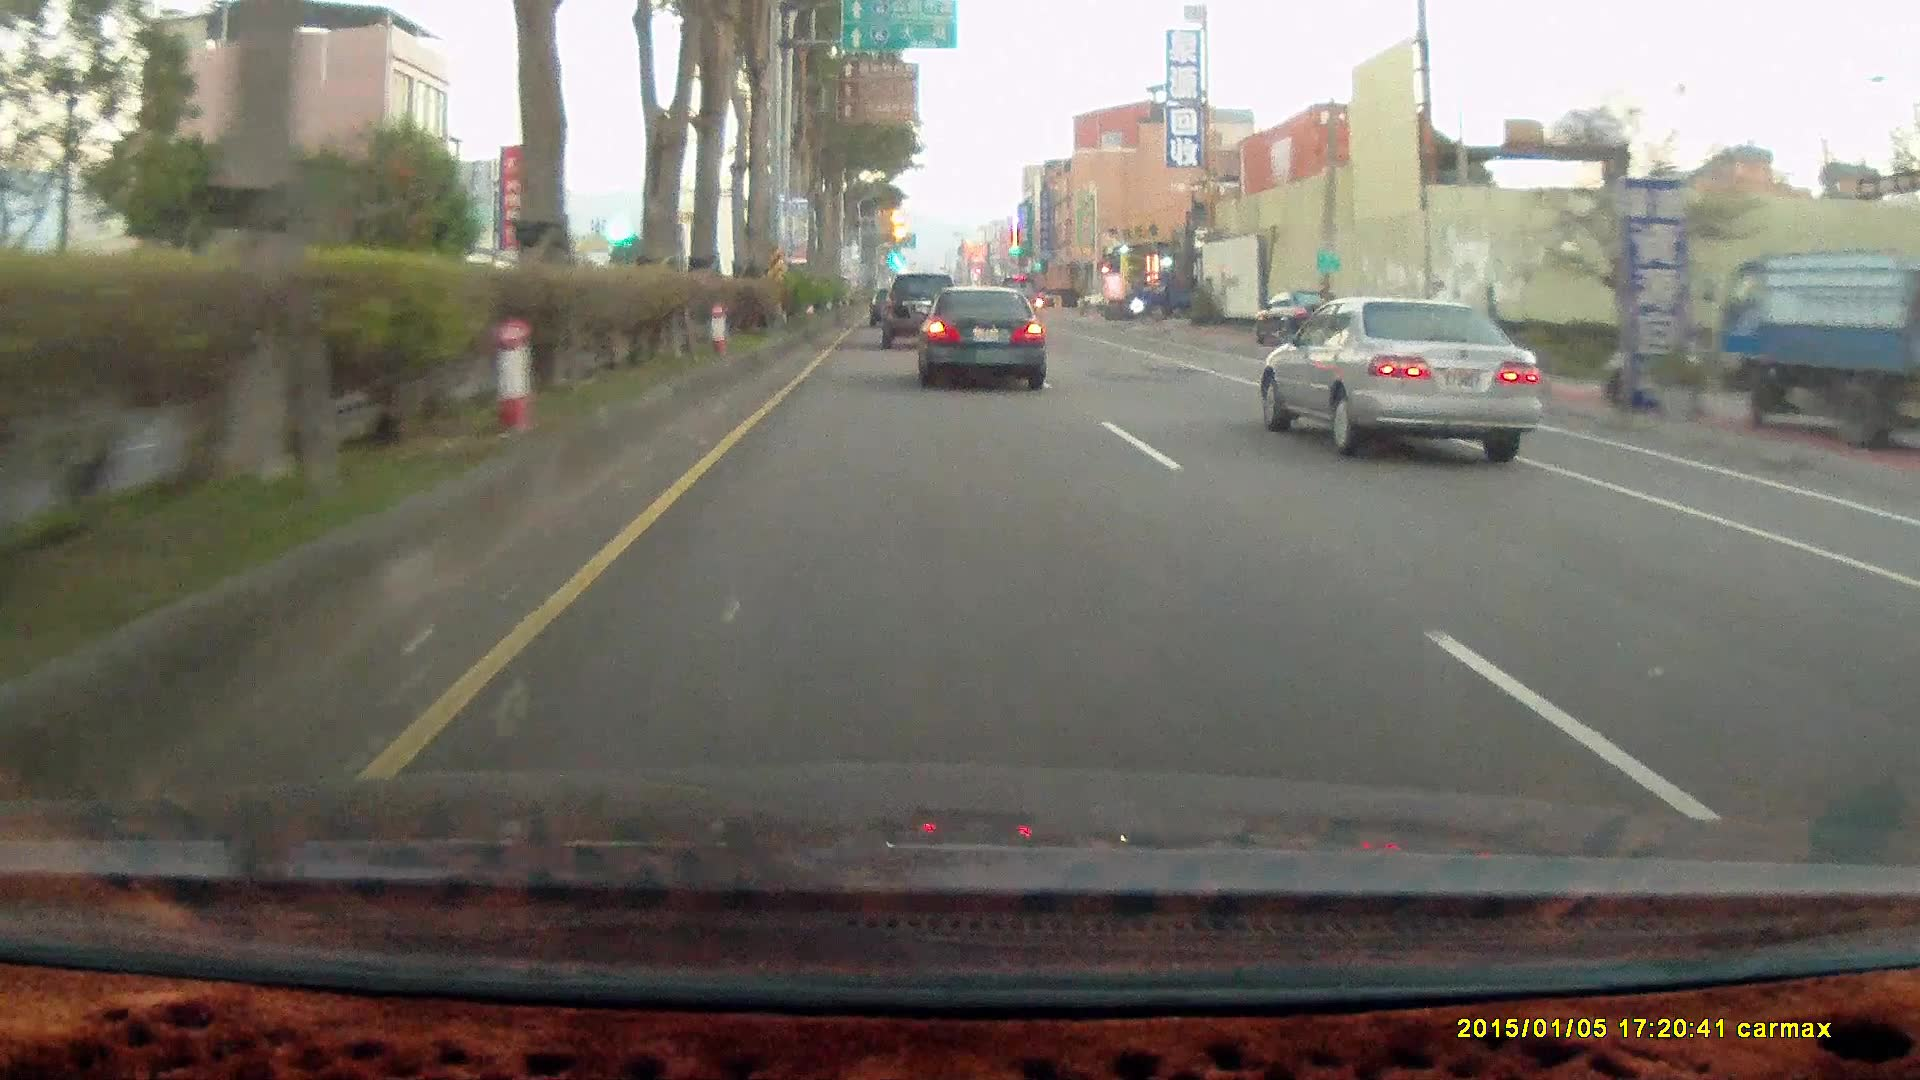vehicle: (1273, 294, 1556, 463), (1258, 295, 1543, 463), (1714, 255, 1919, 456), (913, 280, 1046, 385), (918, 285, 1048, 389), (881, 272, 961, 349), (881, 272, 961, 348), (1131, 272, 1211, 320), (1044, 285, 1083, 306)
